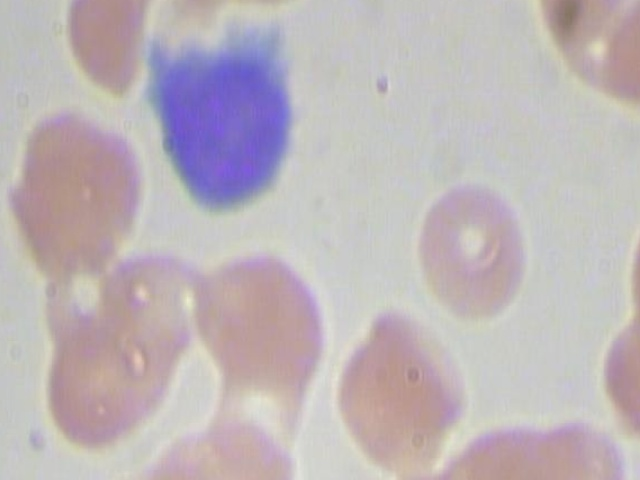RBC: (0, 101, 151, 280), (331, 300, 475, 472), (184, 231, 328, 403), (408, 174, 538, 322), (37, 319, 149, 447), (46, 0, 158, 94), (511, 419, 627, 480), (210, 0, 322, 22), (376, 462, 463, 480)
WBC: (113, 6, 311, 219)
